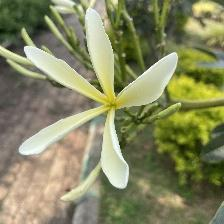champaka: (15, 9, 182, 195)
